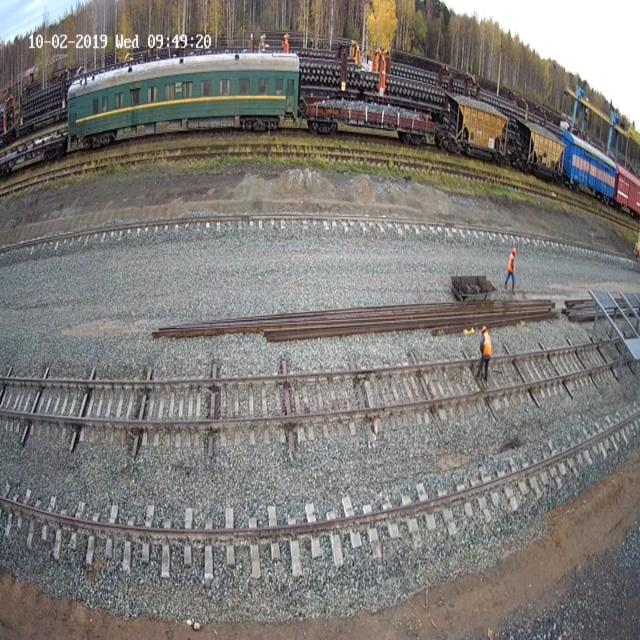Helmet: (512, 246, 518, 256)
Person: (475, 325, 492, 381), (504, 246, 517, 292)
